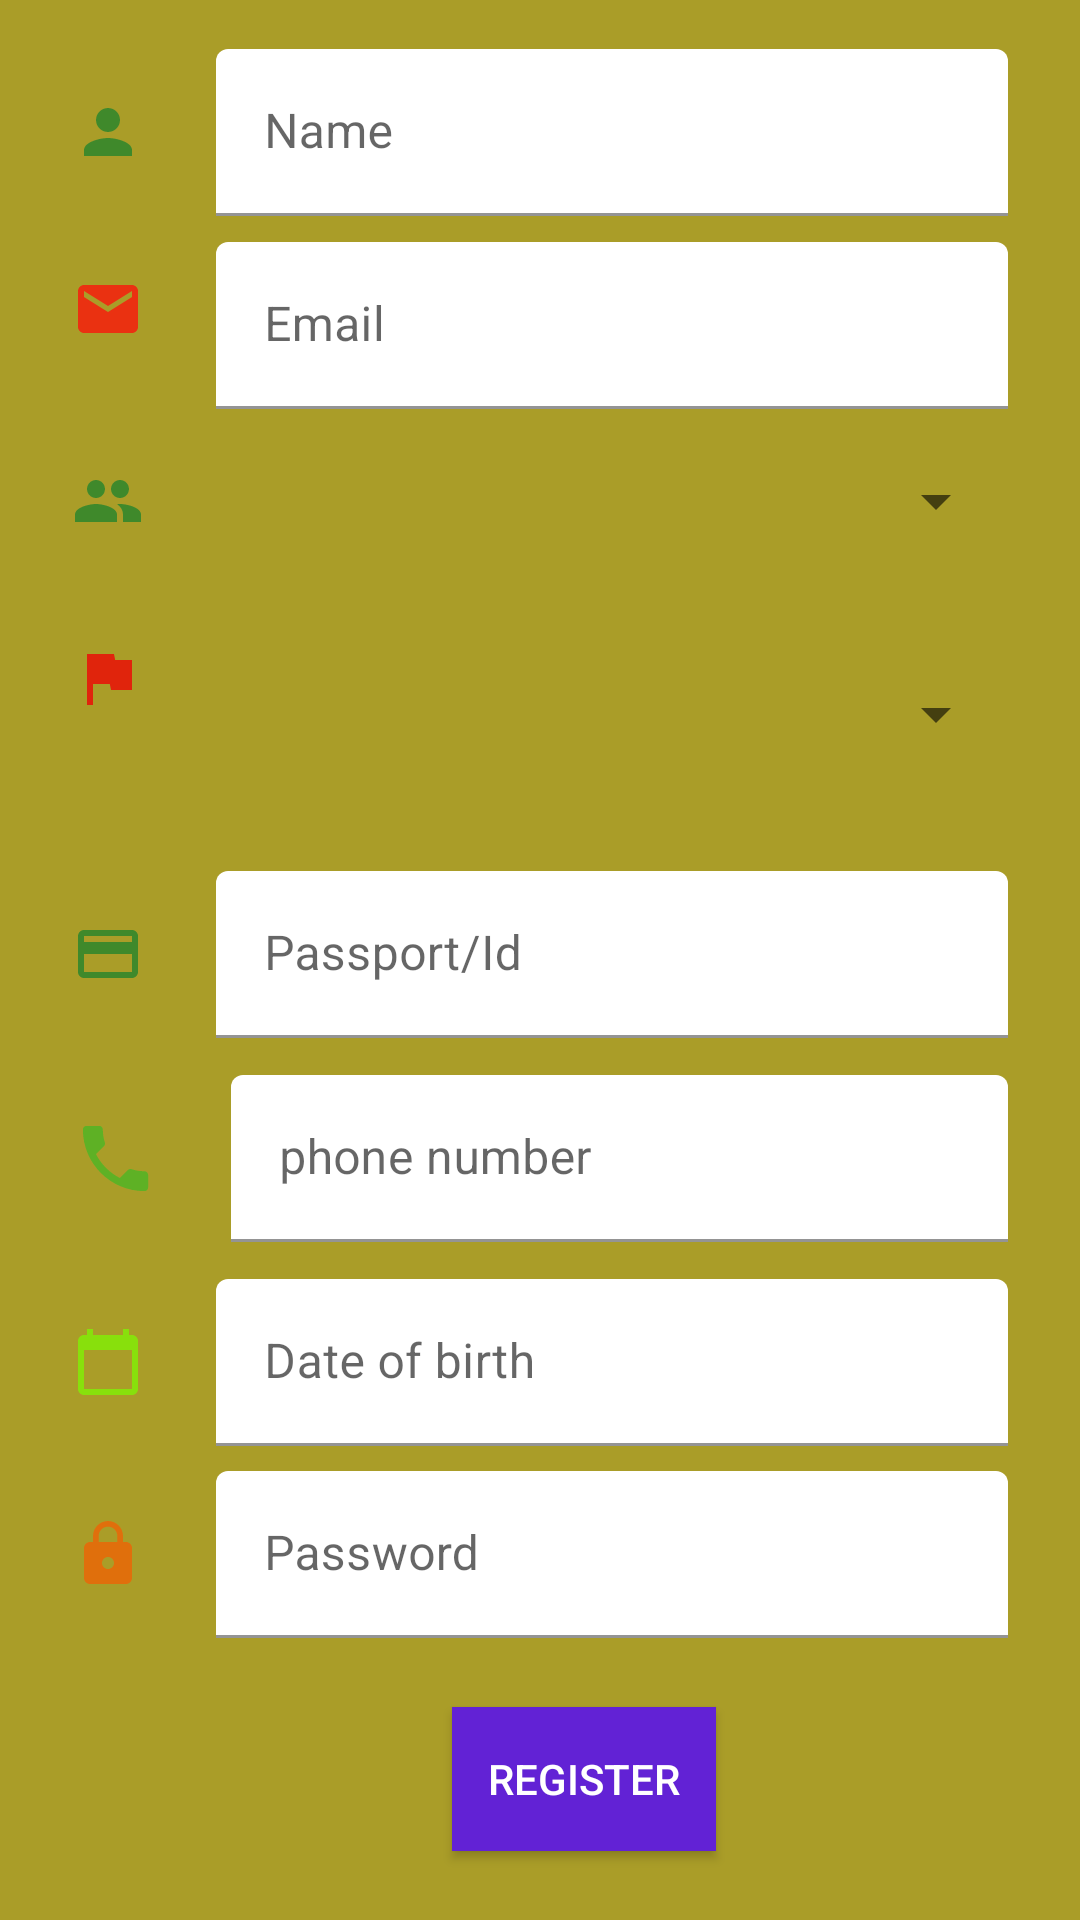

Named icons in this screenshot (1080px x 1920px) and their centers, (x,y):
calendar today: (108,1362)
credit card: (108,954)
email: (108,309)
lock: (108,1552)
Nationality: (109,679)
person: (108,132)
phone: (115,1158)
